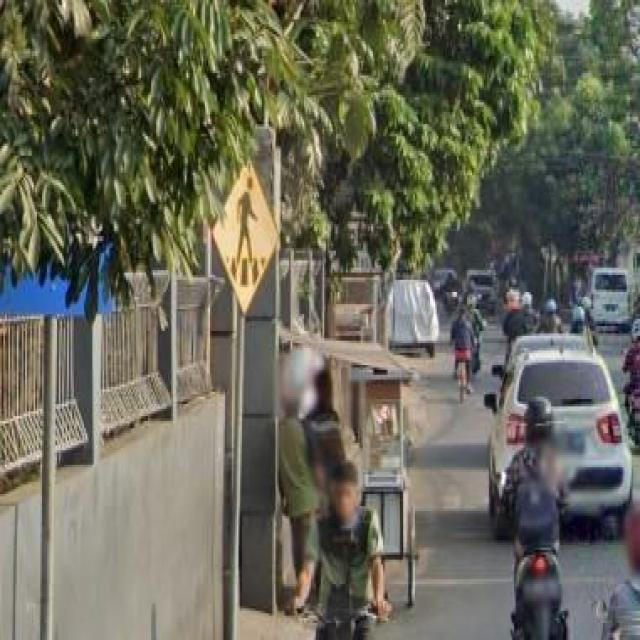ped_zebra_cross: (222, 158, 278, 312)
